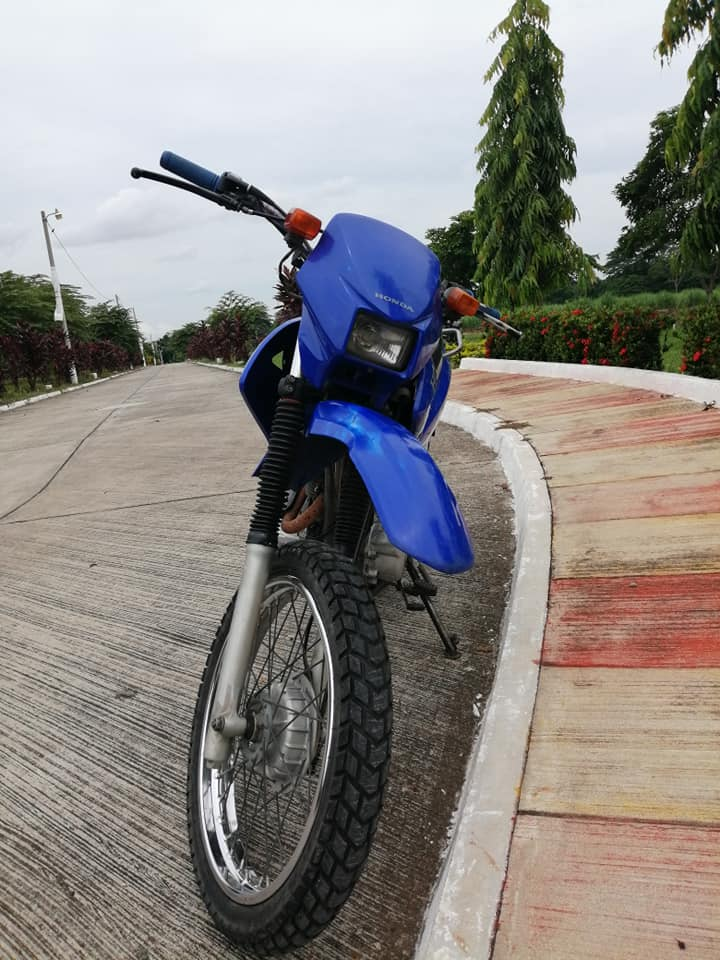moto: (124, 135, 528, 956)
